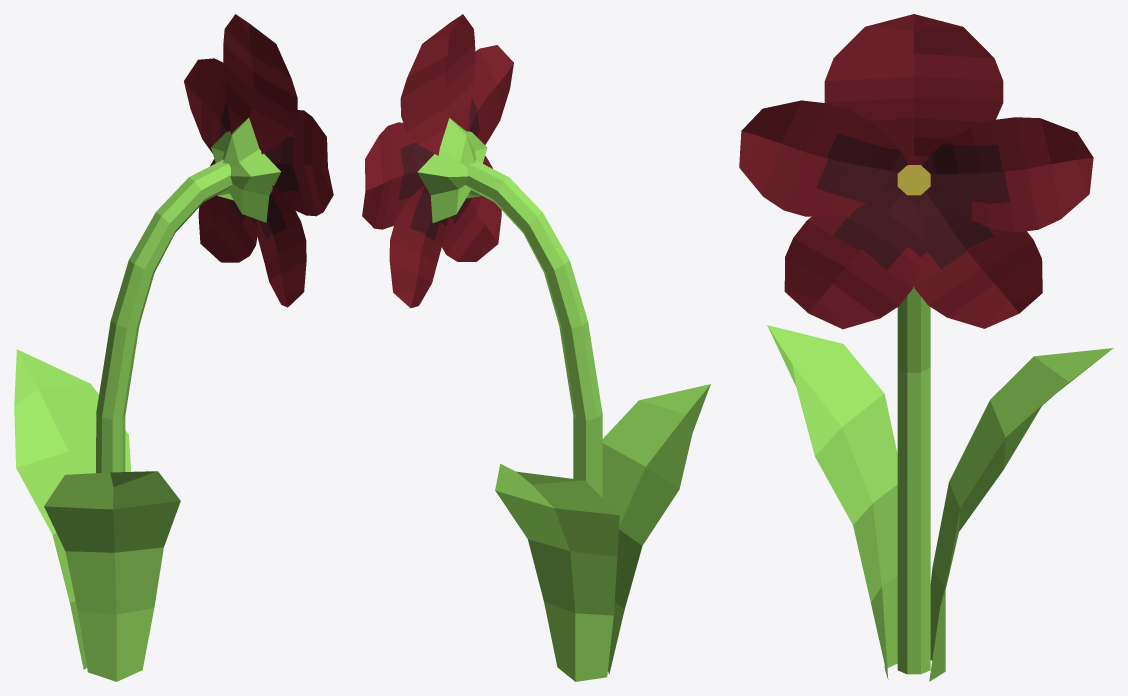
3 renders of one model, left to right at view 1: azimuth 30°, elevation 25°; view 2: azimuth 150°, elevation 25°; view 3: azimuth 270°, elevation 25°, orthographic. The views are drawn at different scales.
Visible parts, largest first — view 1: plane (×7), cylinder, sphere; view 2: plane (×7), cylinder, sphere; view 3: plane (×7), cylinder.
Boxes of the visible parts, x1,y1,x2,y2 form: plane (×7): [14, 14, 333, 681]; cylinder: [96, 159, 232, 473]; sphere: [211, 118, 280, 222]; plane (×7): [362, 14, 710, 681]; cylinder: [465, 160, 602, 497]; sphere: [417, 118, 487, 222]; plane (×7): [739, 14, 1113, 681]; cylinder: [897, 165, 930, 674].
Bounding box in the file's own units: 0.6214 × 1.54 × 0.7072.
1 material, 1 textured.
